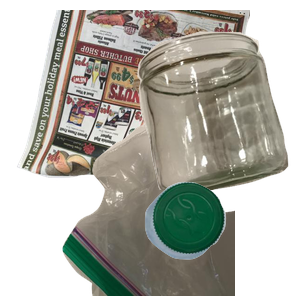glass: (135, 29, 300, 209)
paper: (14, 10, 254, 190)
plastic: (142, 179, 300, 300)
trash: (60, 120, 300, 300)
